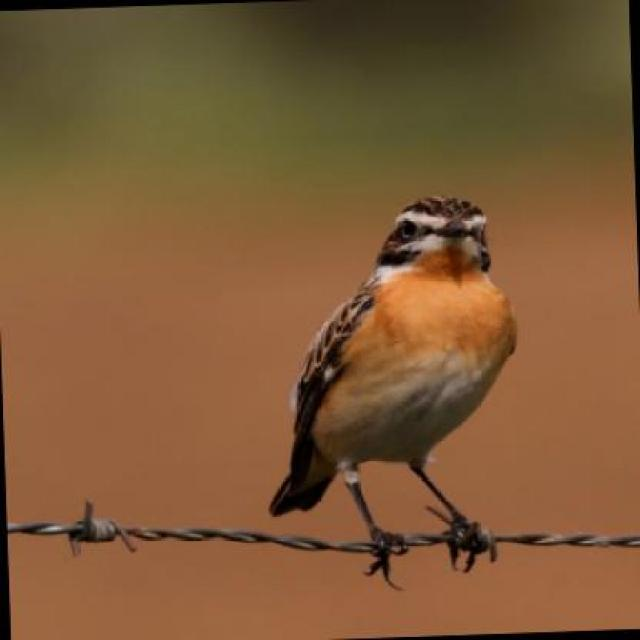Bird: (261, 188, 516, 593)
